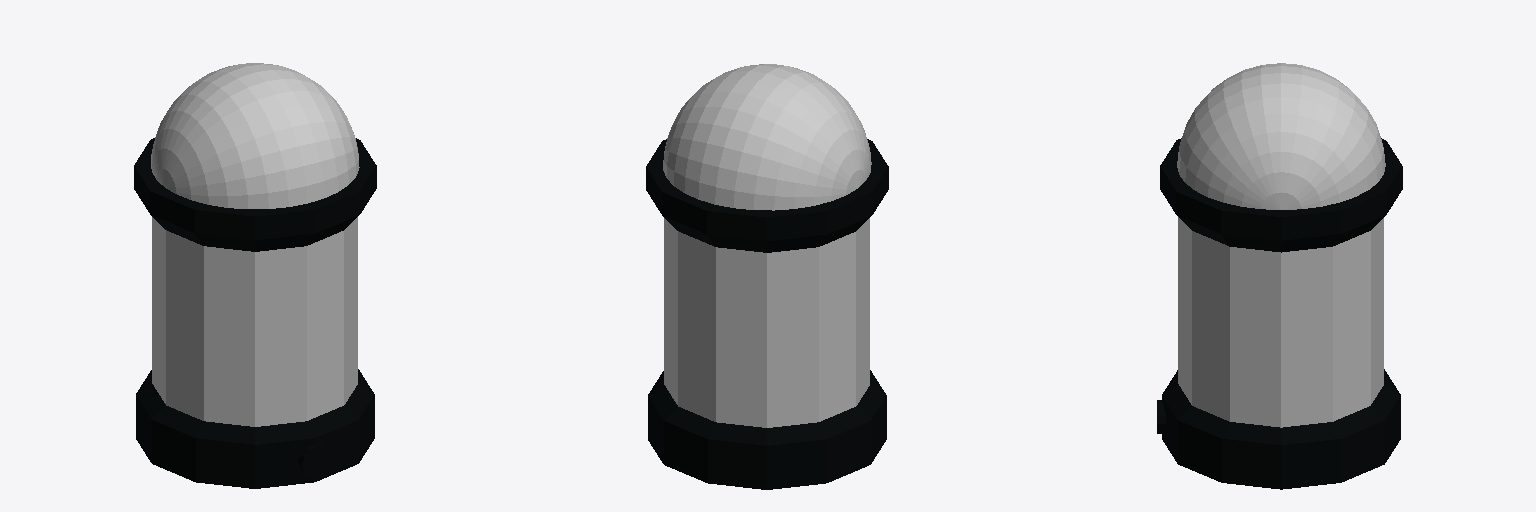
Rendered from Cryo_Tube_OFF.obj.
3 renders of one model, left to right at view 1: azimuth 30°, elevation 25°; view 2: azimuth 150°, elevation 25°; view 3: azimuth 270°, elevation 25°, orthographic.
Parts seen in each view (by area): view 1: Cryo_Tube_OFF; view 2: Cryo_Tube_OFF; view 3: Cryo_Tube_OFF.
Boxes of the visible parts, x1,y1,x2,y2 form: Cryo_Tube_OFF: [134, 63, 376, 488]; Cryo_Tube_OFF: [646, 64, 888, 489]; Cryo_Tube_OFF: [1157, 63, 1402, 489].
Size of the model in its own units: 2.03 by 3.38 by 2.05.